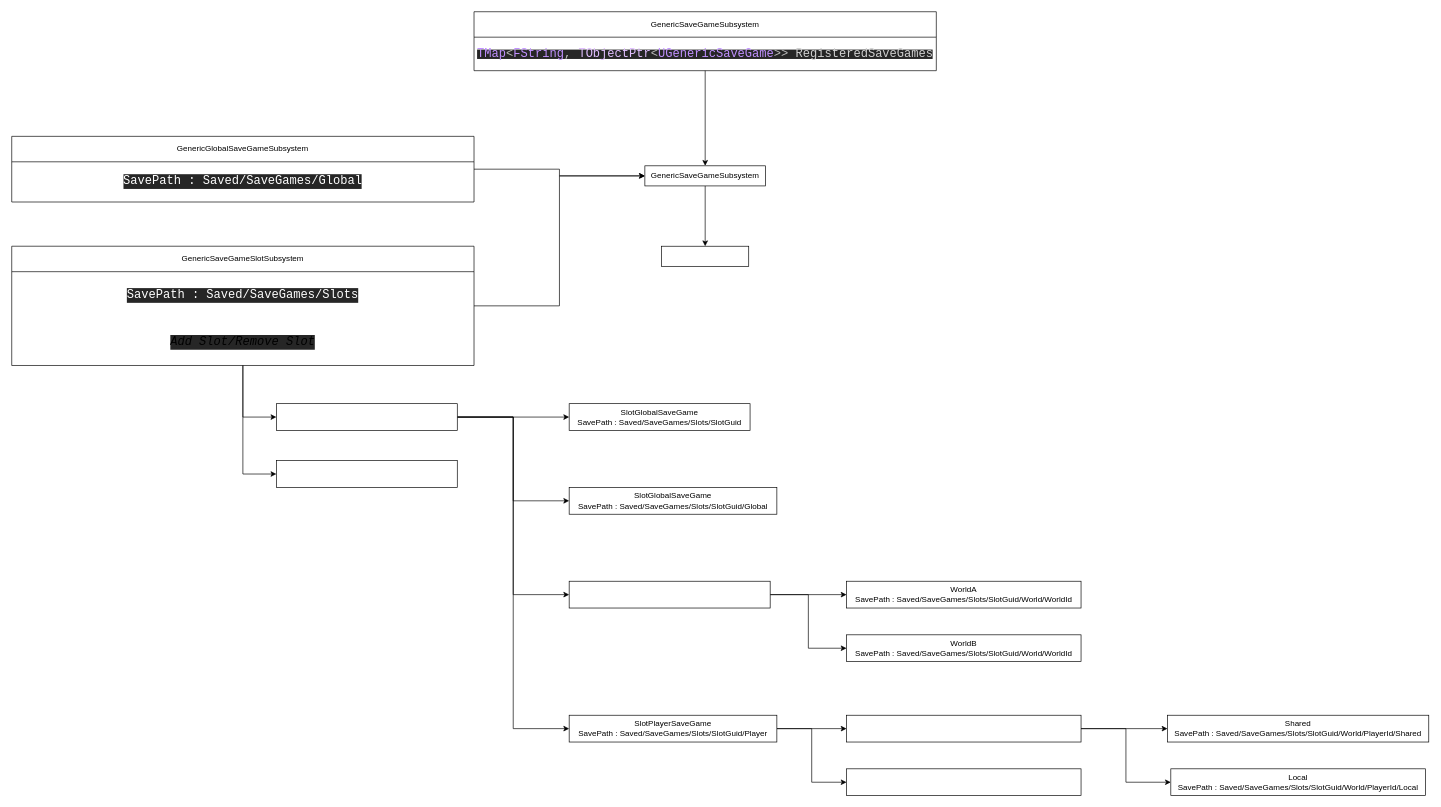
Image size: 1441x807. Some labels were removed from this diagram. The shapes that lost their labels are listed below. From the top down, each one's centre as x and y in pixels, then its label:
At point (705, 256): "GenericSaveGame".
At point (366, 416): "SlotA SavePath : Saved/SaveGames/Slots/SlotGuid".
At point (366, 473): "SlotB SavePath : Saved/SaveGames/Slots/SlotGuid".
At point (669, 594): "SlotWorldSaveGame SavePath : Saved/SaveGames/Slots/SlotGuid/World".
At point (963, 728): "PlayerA SavePath : Saved/SaveGames/Slots/SlotGuid/World/PlayerId".
At point (963, 782): "PlayerB SavePath : Saved/SaveGames/Slots/SlotGuid/World/PlayerId".
